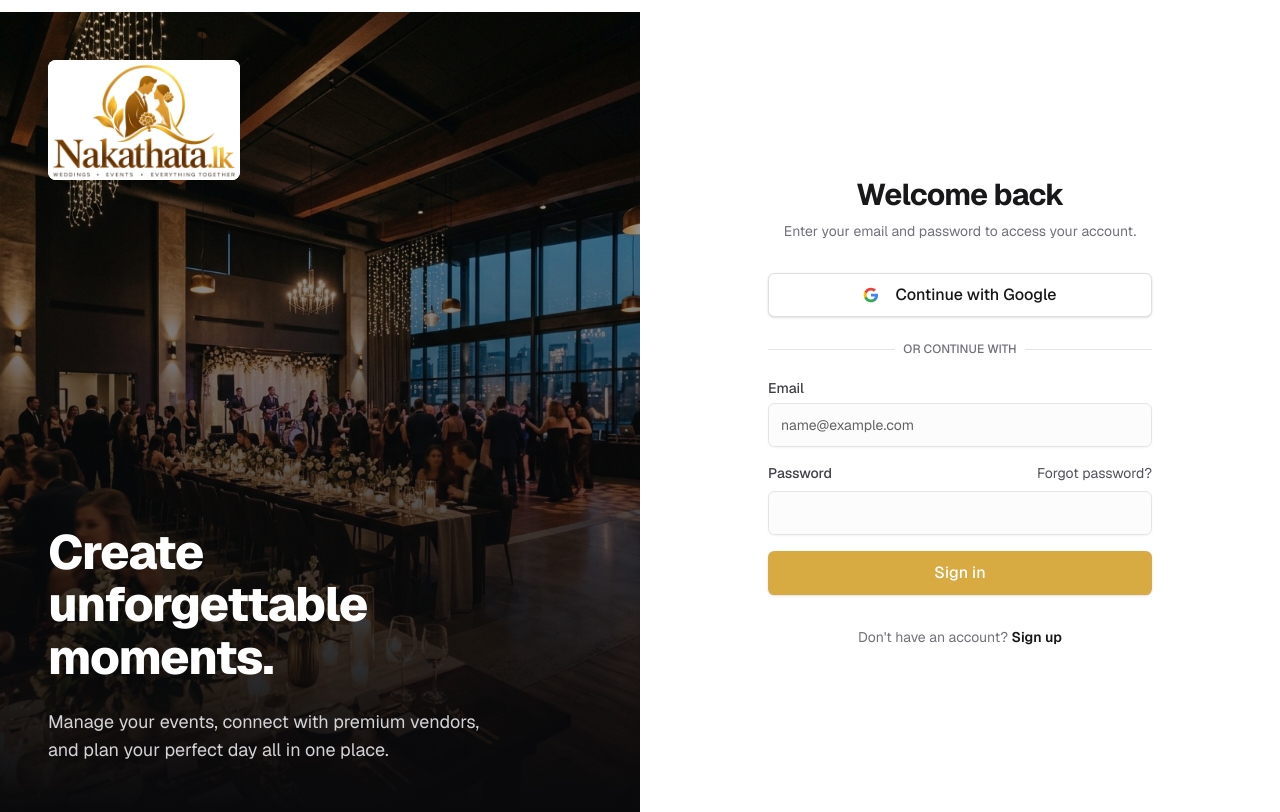
02 - Authentication & Route Guard Flows › validates required fields on the customer login page
This screenshot has width=1280, height=812.
Step 1. Type "invalid-email-format" into the field with id "email" → point(960, 425), box x1=768 y1=403 x2=1152 y2=447
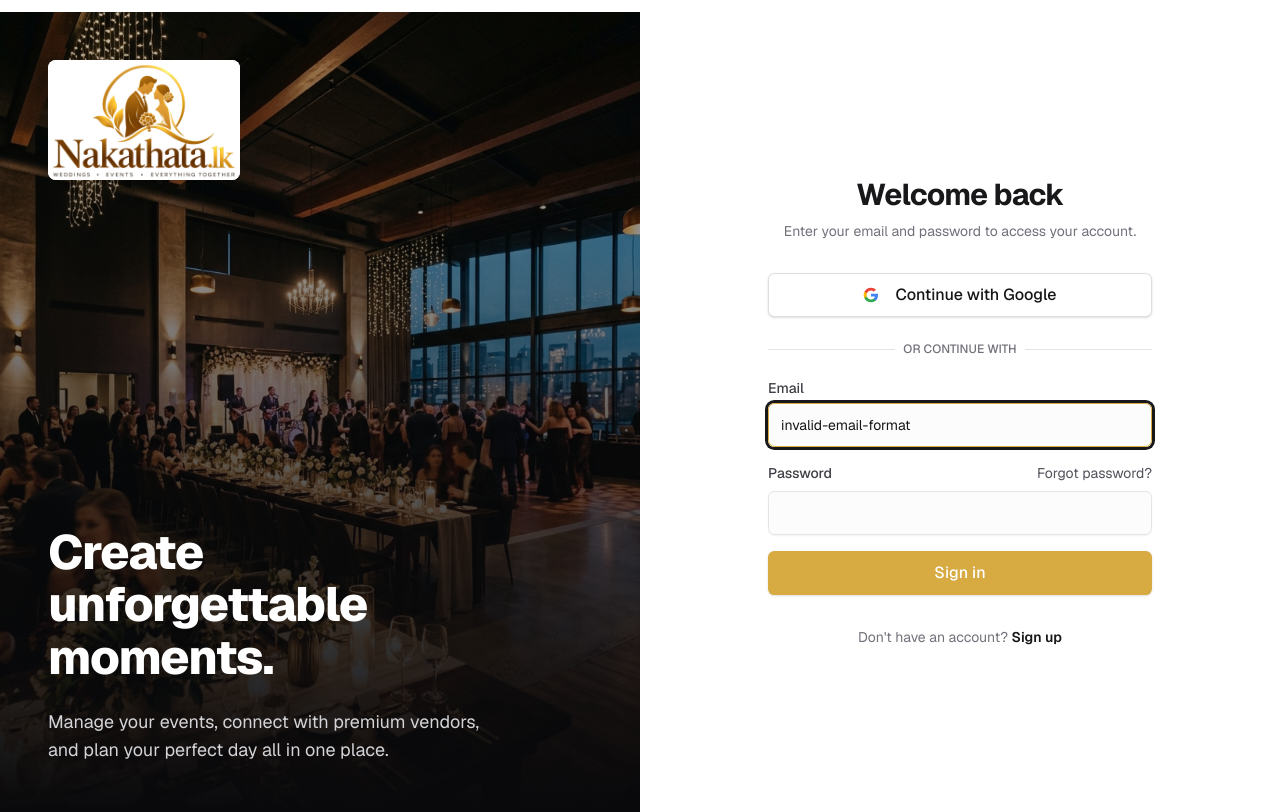
Step 2. Click the button "Sign in" → point(960, 573), box x1=768 y1=551 x2=1152 y2=595
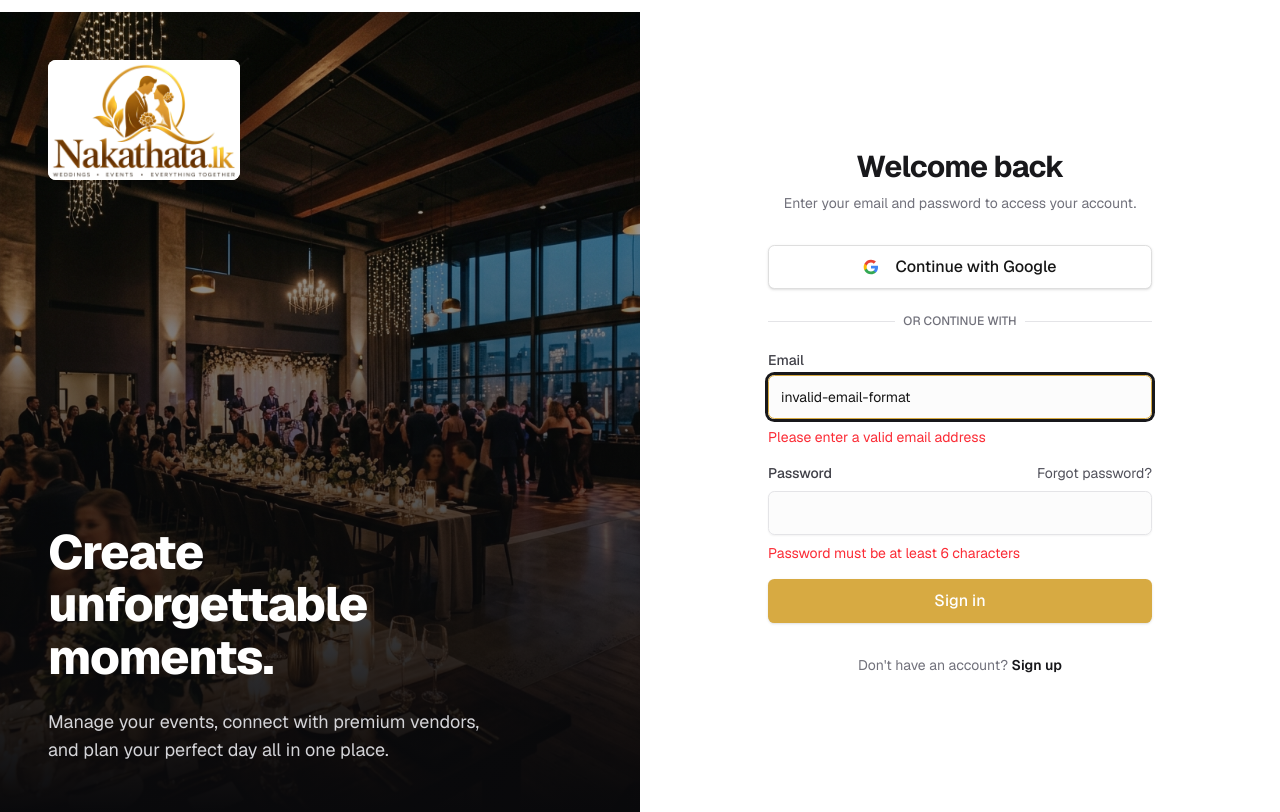
Expected: the text "Please enter a valid email address" is shown, x1=768 y1=428 x2=986 y2=446
